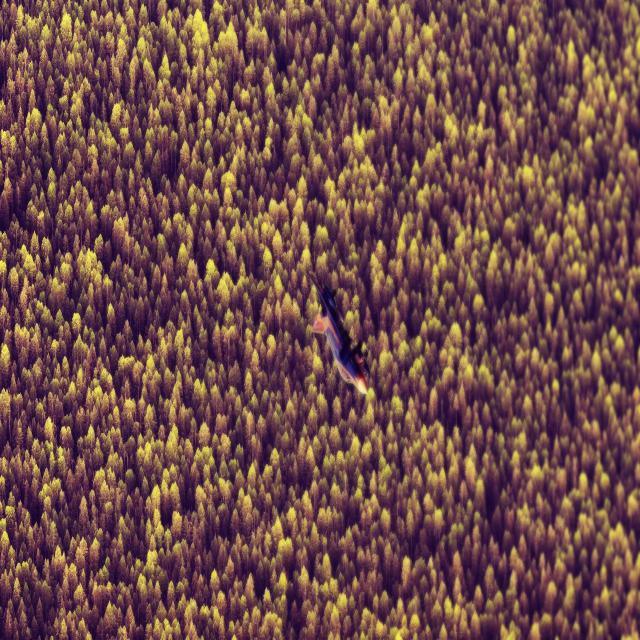airplane: (306, 271, 369, 395)
